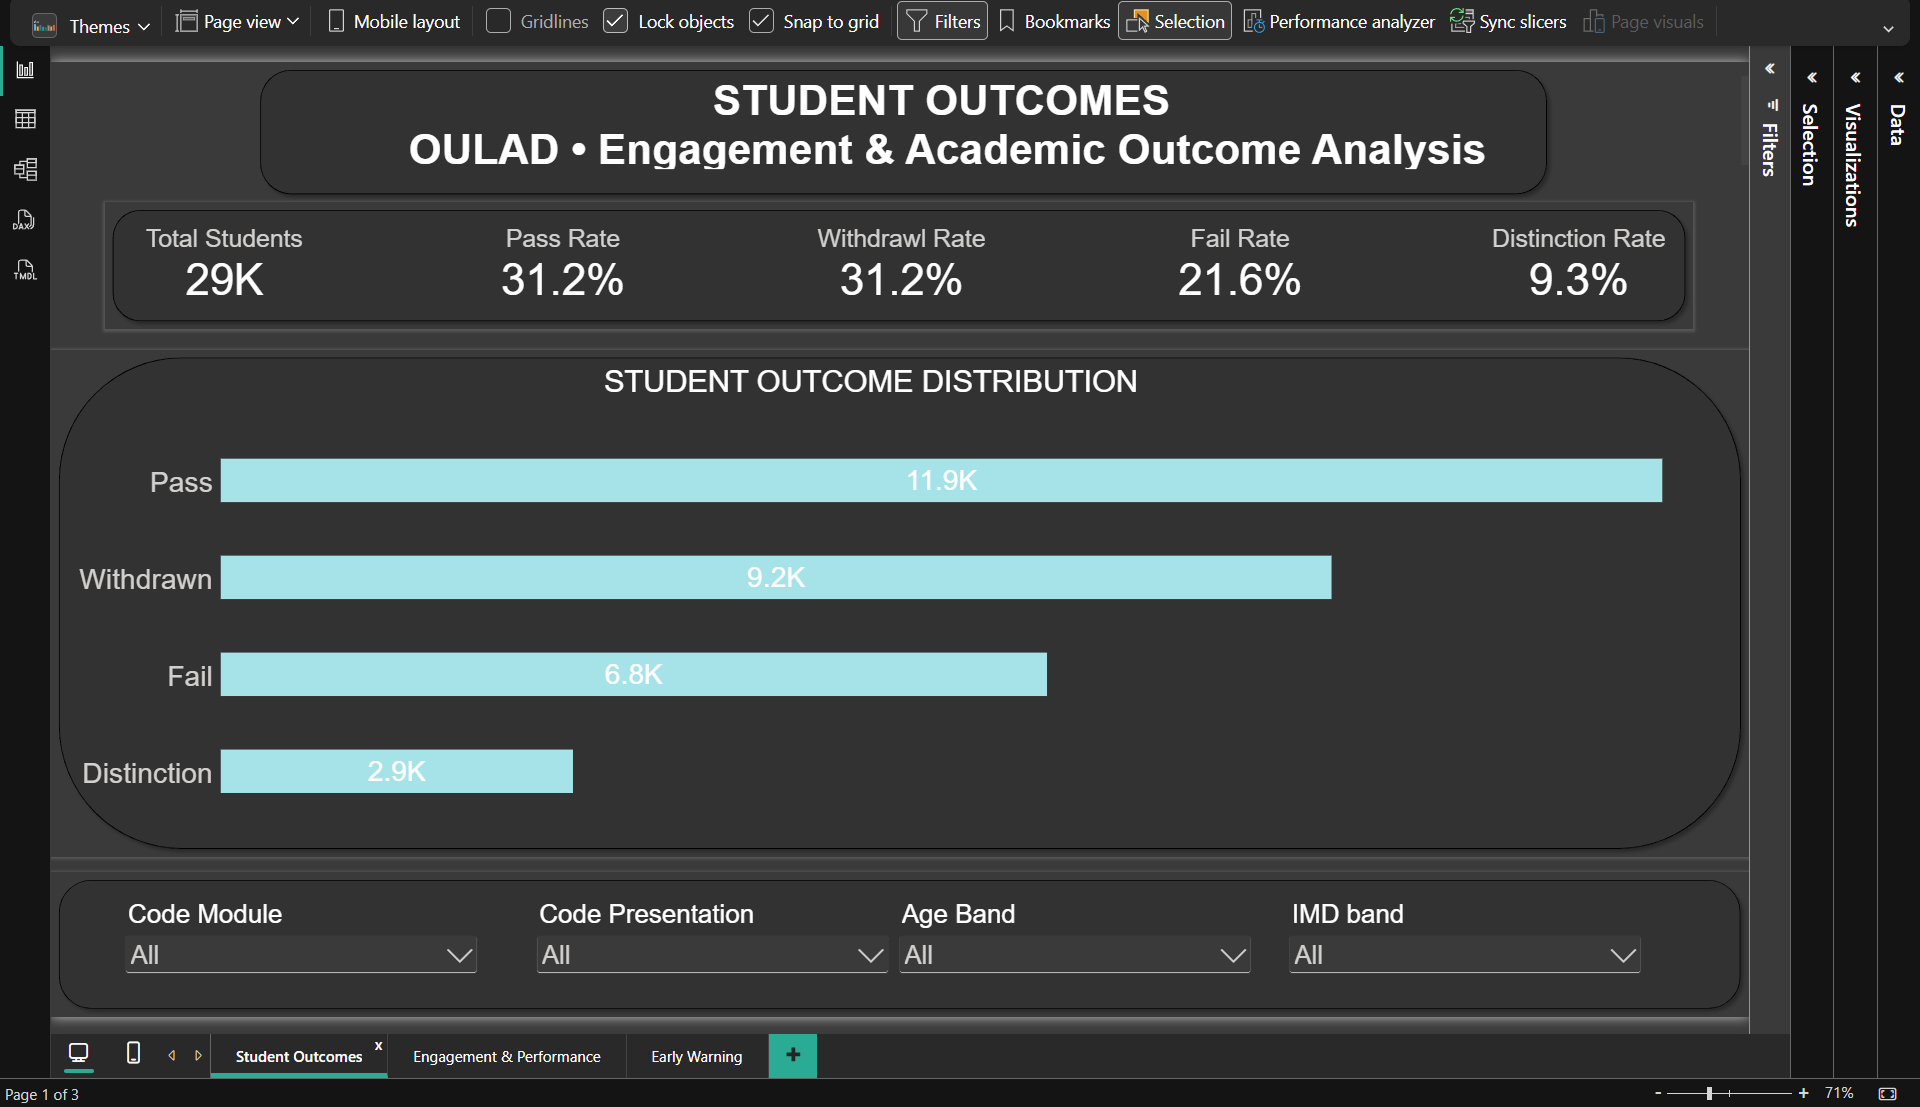

The dashboard page shown, as its layout file describes it:
{"tool":"powerbi","page":{"name":"Student Outcomes ","canvas":[1920,1080],"ordinal":0},"visuals":[{"type":"shape","box":[0,916.7,1920,163.7],"z":0,"group":"g1"},{"type":"group","id":"g1","title":"Background","box":[0,0,1920.4,1080.4],"z":500},{"type":"textbox","box":[103.1,16,1816.9,105.7],"z":1000},{"type":"shape","box":[0,324.5,1920.4,573.9],"z":1000,"group":"g1"},{"type":"cardVisual","fields":{"Data":["Student Analysis._Total Students","Student Analysis._Pass Rate","Student Analysis._Withdrawl Rate","Student Analysis._Fail Rate","Student Analysis._Distinction Rate"]},"box":[8.3,158.6,1911.6,144.9],"z":2000},{"type":"shape","box":[60.5,158.6,1796.9,144],"z":2000,"group":"g1"},{"type":"shape","box":[227.5,0,1473.4,158.6],"z":3000,"group":"g1"},{"type":"clusteredBarChart","title":"STUDENT OUTCOME DISTRIBUTION","fields":{"Category":["Student Analysis.final_result"],"Y":["Count(Student Analysis.id_student)"]},"box":[0,328.4,1854.8,564],"z":3000},{"type":"slicer","fields":{"Values":["Student Analysis.code_module"]},"box":[79.5,947.1,408.6,132.8],"z":4000},{"type":"slicer","fields":{"Values":["Student Analysis.code_presentation"]},"box":[544.9,947.1,408.6,132.8],"z":5000},{"type":"slicer","fields":{"Values":["Student Analysis.age_band"]},"box":[954.2,947.1,408.6,132.8],"z":6000},{"type":"slicer","fields":{"Values":["Student Analysis.imd_band"]},"box":[1396.2,947.1,408.6,132.8],"z":7000}]}

Visuals, with their boxes on the page's 1920x1080 design canvas (x1, y1, x2, y2). These are canvas units, not pixel positions in the 1920x1107 screenshot, which may show the page scaled, cropped or inside an application window:
shape: bbox=(0, 917, 1920, 1080)
"Background" group: bbox=(0, 0, 1920, 1080)
textbox: bbox=(103, 16, 1920, 122)
shape: bbox=(0, 324, 1920, 898)
cardVisual - Student Analysis._Total Students x Student Analysis._Pass Rate: bbox=(8, 159, 1920, 304)
shape: bbox=(60, 159, 1857, 303)
shape: bbox=(228, 0, 1701, 159)
"STUDENT OUTCOME DISTRIBUTION" clusteredBarChart: bbox=(0, 328, 1855, 892)
slicer - Student Analysis.code_module: bbox=(80, 947, 488, 1080)
slicer - Student Analysis.code_presentation: bbox=(545, 947, 954, 1080)
slicer - Student Analysis.age_band: bbox=(954, 947, 1363, 1080)
slicer - Student Analysis.imd_band: bbox=(1396, 947, 1805, 1080)
